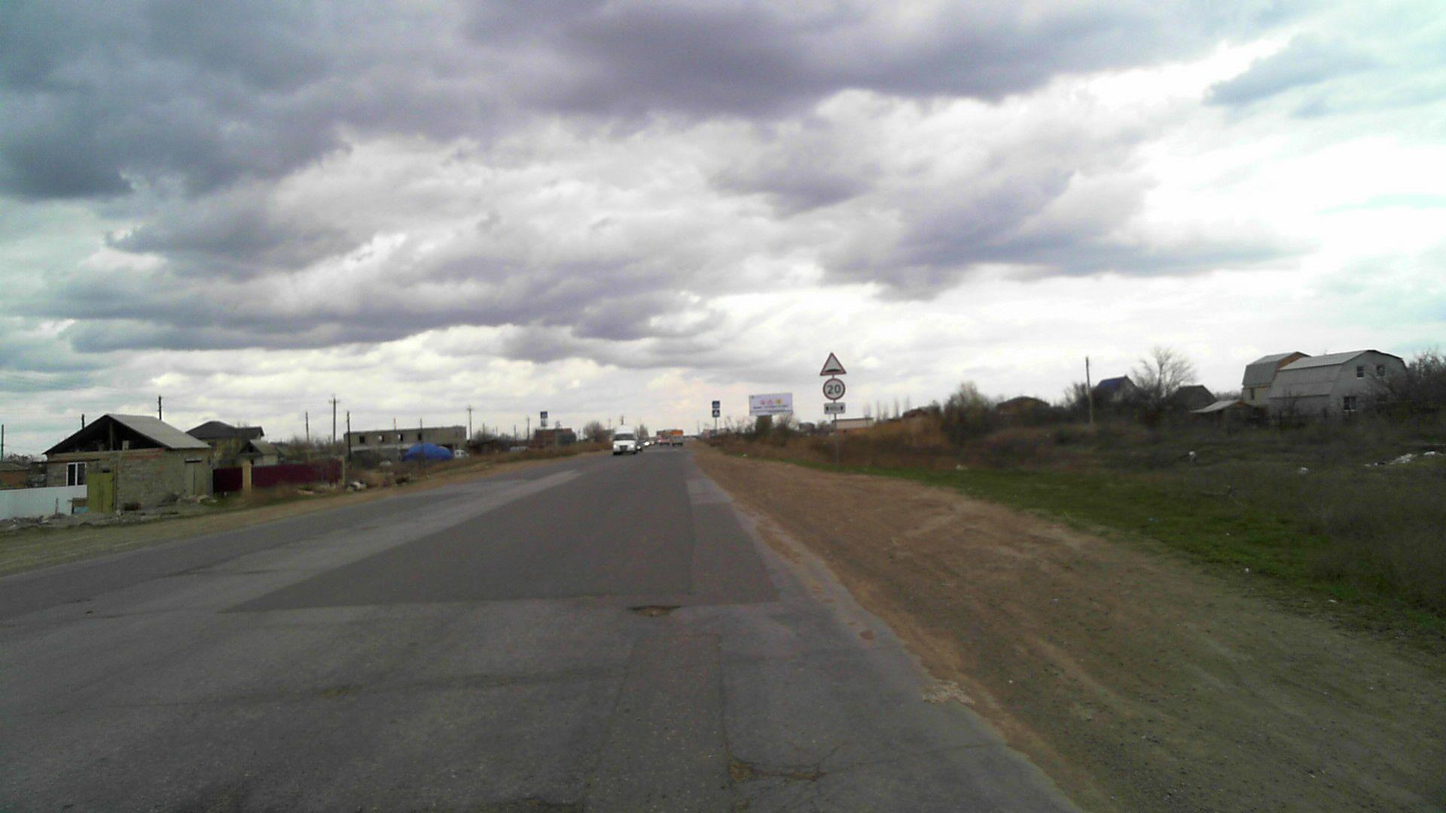road_sign: (819, 352, 847, 376), (823, 377, 846, 399), (823, 403, 846, 414)
